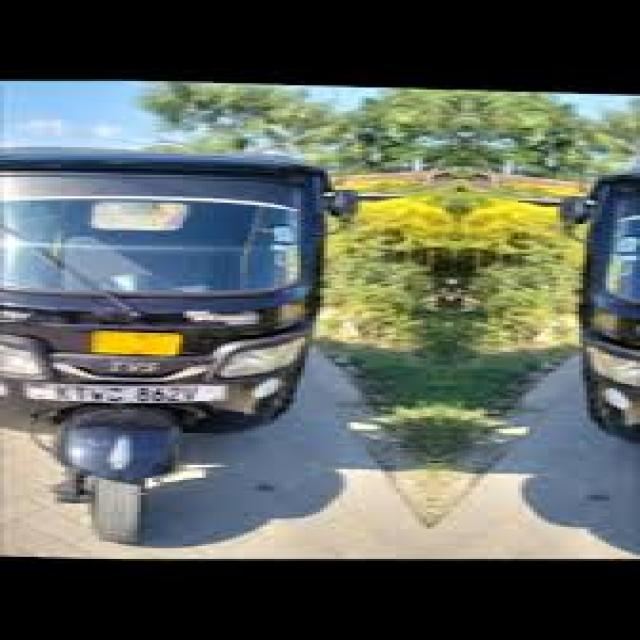tuktuk: (9, 133, 475, 558)
